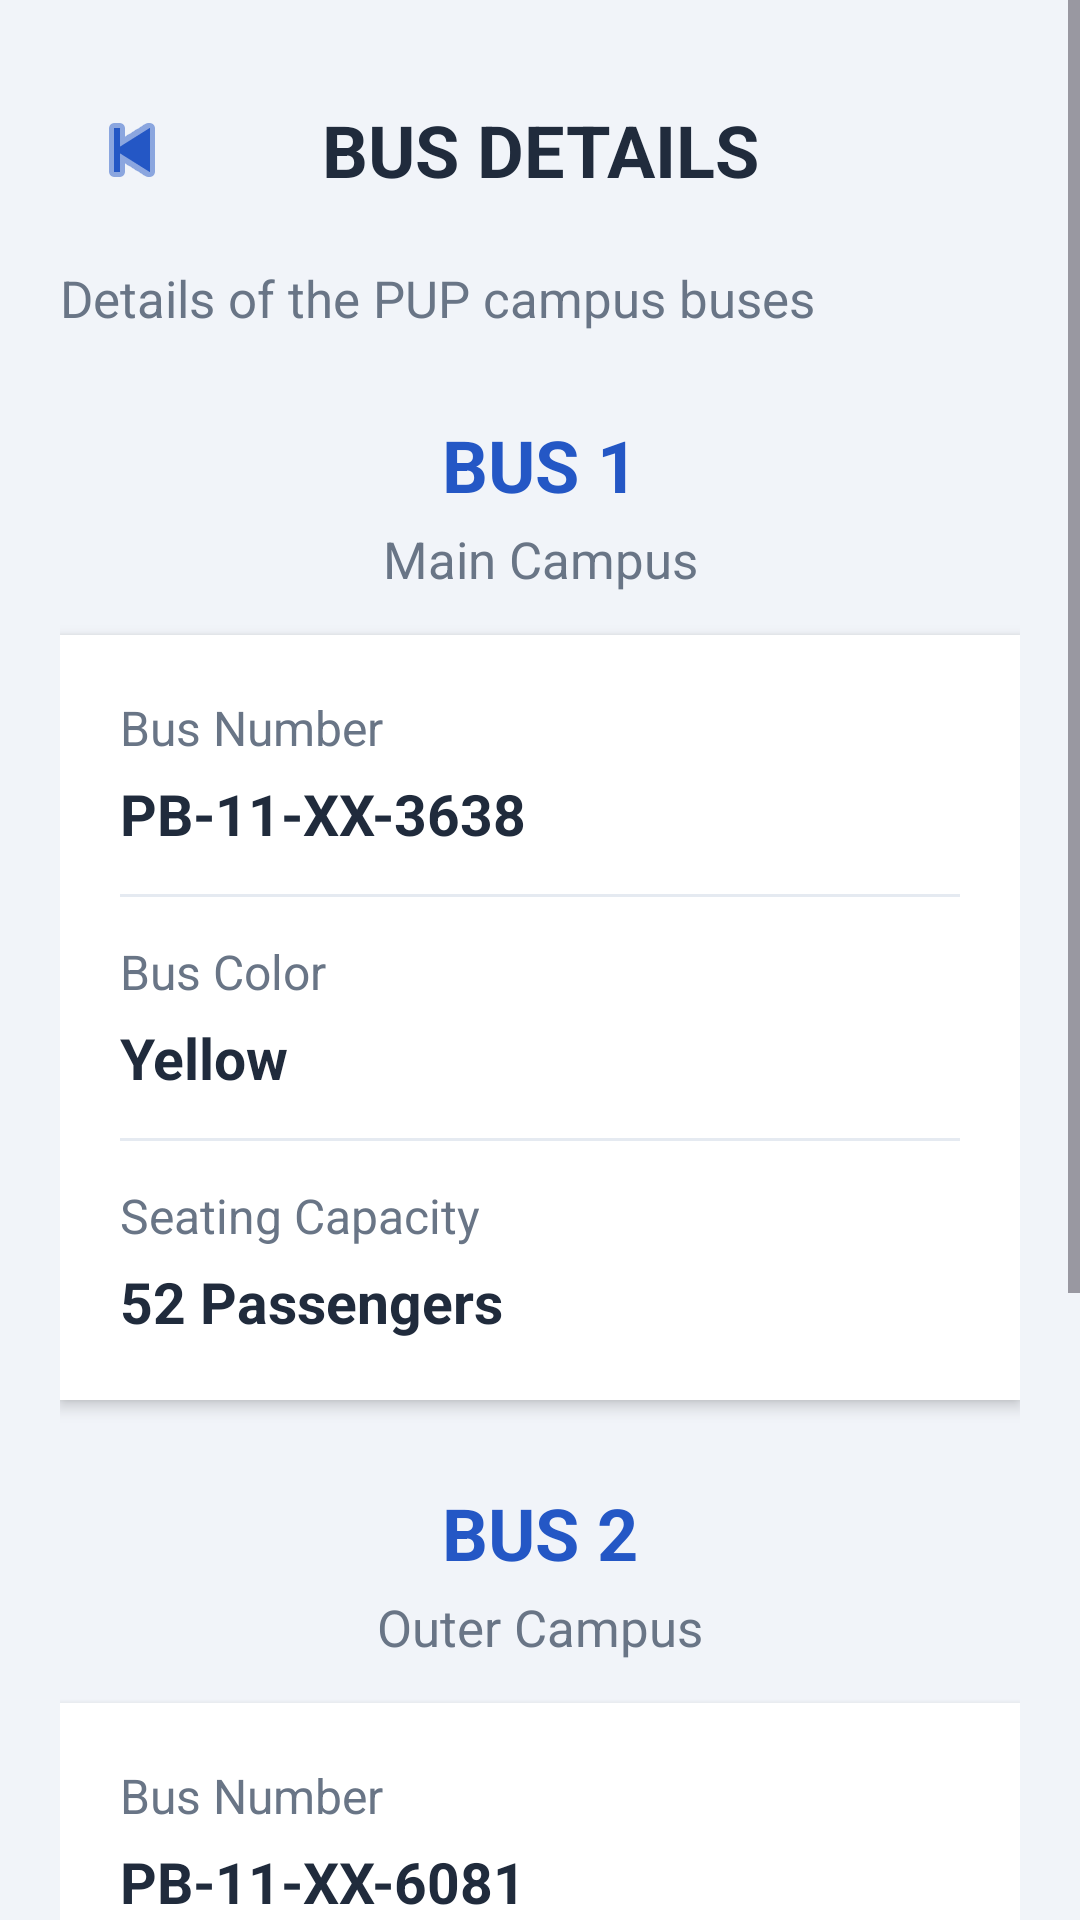

Icons on this 1080*1920 Android screen, each with the point to tap as [x,y]:
Back: [132,150]
